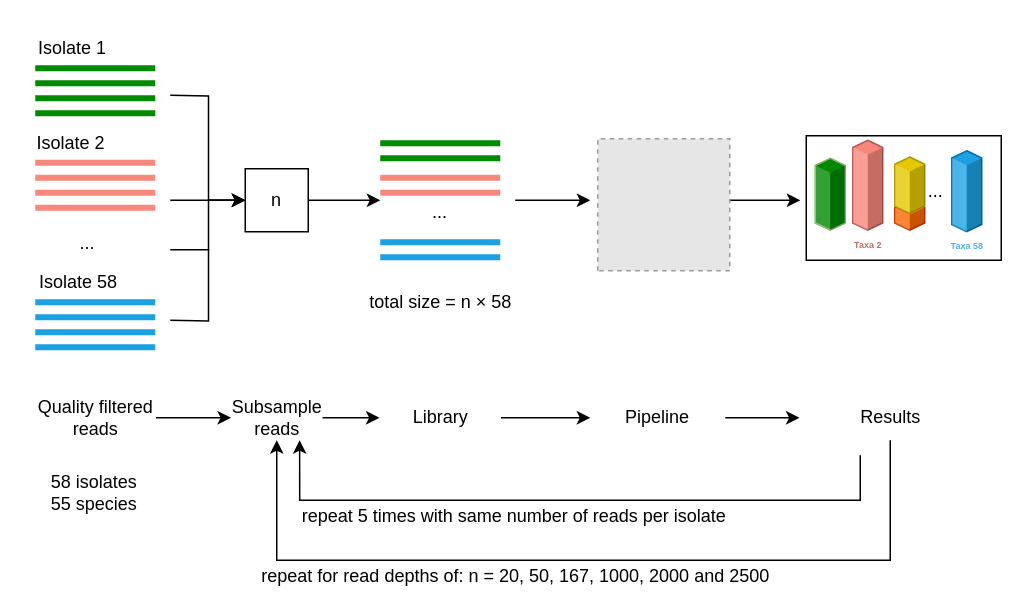
Some shapes in this 1028 by 612 pixel diagram are drawn without their labels. Grey dashed boxes stand in for pictures. Each missing label, with the box of its shape:
Taxa 1: (814, 157, 845, 230)
Taxa 3: (893, 199, 925, 230)
